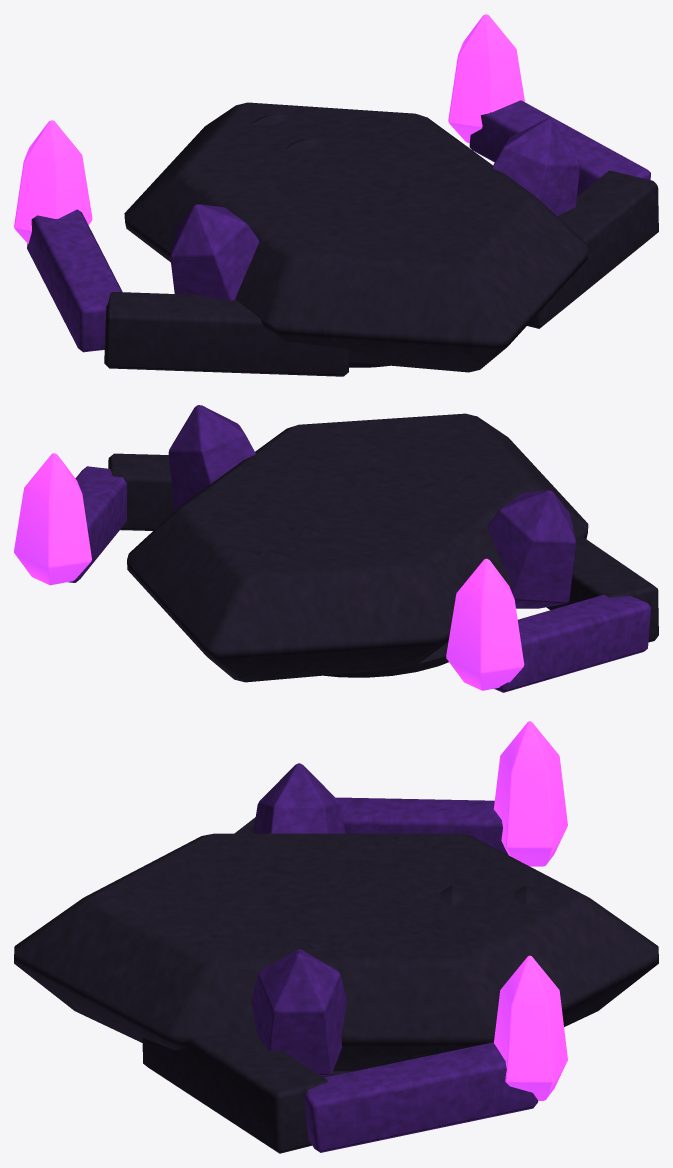
File: conclave_eclipse.gltf
3 renders of one model, top to bottom at view 1: azimuth 30°, elevation 25°; view 2: azimuth 150°, elevation 25°; view 3: azimuth 270°, elevation 25°, orthographic. The views are drawn at different scales.
Parts seen in each view (by area): view 1: Body.017_Geometry, GunRecoil.016_Geometry; view 2: Body.017_Geometry, GunRecoil.016_Geometry; view 3: Body.017_Geometry, GunRecoil.016_Geometry.
Boxes of the visible parts, x1,y1,x2,y2 form: Body.017_Geometry: [14, 14, 658, 376]; GunRecoil.016_Geometry: [252, 114, 322, 149]; Body.017_Geometry: [14, 405, 658, 692]; GunRecoil.016_Geometry: [253, 526, 323, 561]; Body.017_Geometry: [14, 721, 658, 1153]; GunRecoil.016_Geometry: [439, 885, 538, 905].
Size of the model in its own units: 3.13 by 0.965 by 2.77.
Materials: 3 (2 with a texture image).
